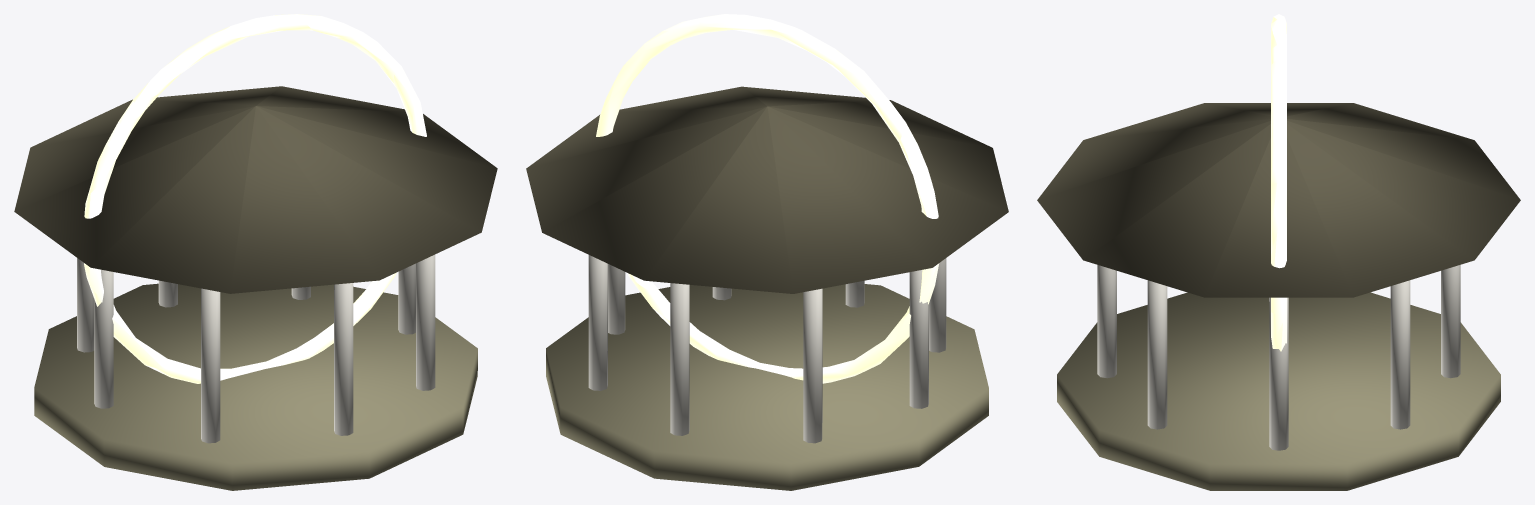
File: SM_Warmerdamm_Bandstand_LOD2.fbx
The picture shows the model from 3 angles, left to right: view 1: azimuth 30°, elevation 25°; view 2: azimuth 150°, elevation 25°; view 3: azimuth 270°, elevation 25°; orthographic projection. The views are drawn at different scales.
Visible parts, largest first — view 1: SM_Warmerdamm_Bandstand_LOD2; view 2: SM_Warmerdamm_Bandstand_LOD2; view 3: SM_Warmerdamm_Bandstand_LOD2.
Part boxes in pixels (bbox=[...]): SM_Warmerdamm_Bandstand_LOD2: bbox=[14, 14, 497, 490]; SM_Warmerdamm_Bandstand_LOD2: bbox=[526, 14, 1008, 490]; SM_Warmerdamm_Bandstand_LOD2: bbox=[1037, 14, 1520, 490].
Bounding box in the file's own units: 4.55 × 4.03 × 4.79.
